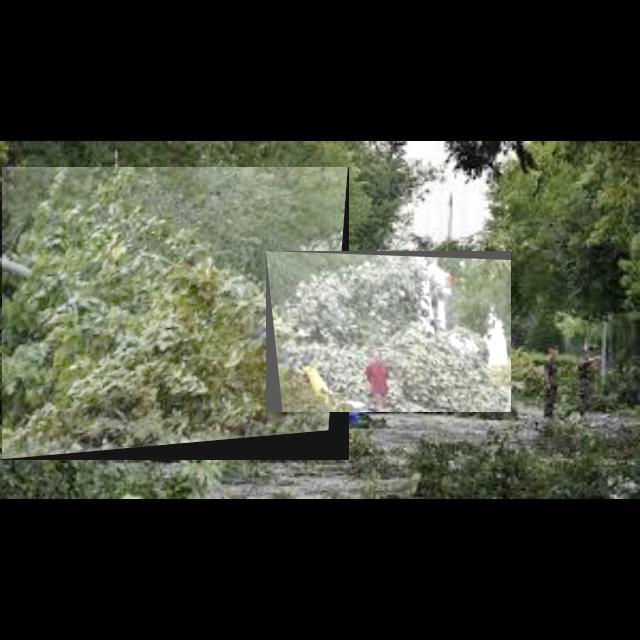fallen_tree: (2, 167, 350, 461), (266, 251, 512, 413)
